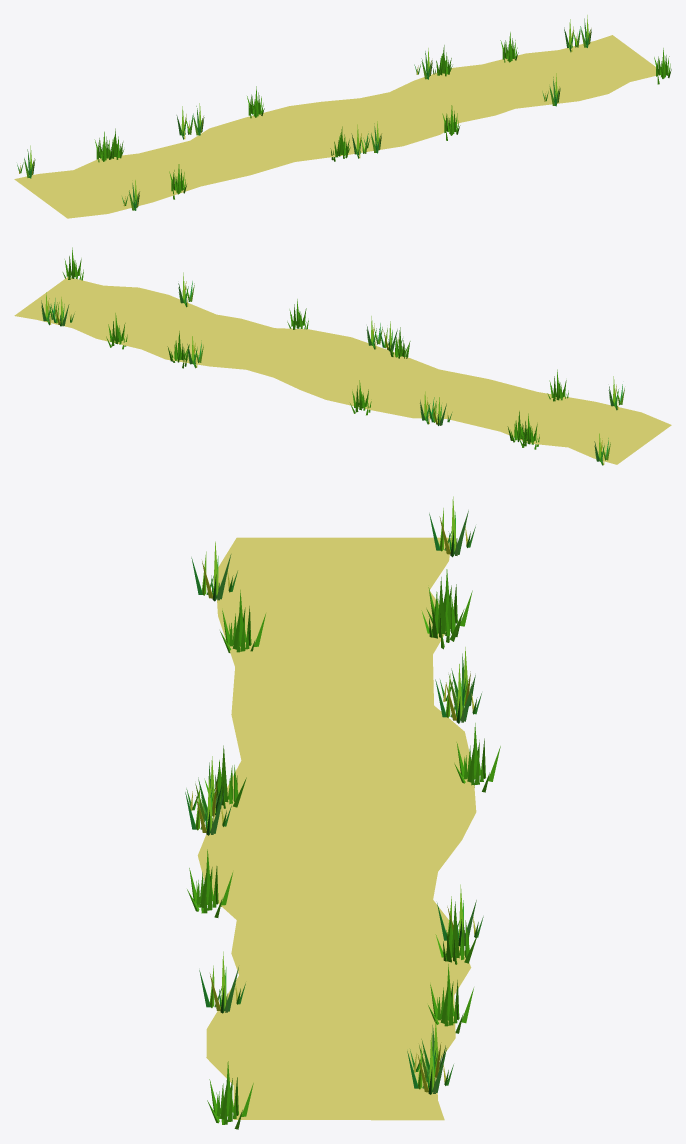
File: center3.fbx
3 views of the same model, one above another, from view 1: azimuth 30°, elevation 25°; view 2: azimuth 150°, elevation 25°; view 3: azimuth 270°, elevation 25° (orthographic). The views are drawn at different scales.
Parts seen in each view (by area): view 1: Plane; view 2: Plane; view 3: Plane, Cone.010, Cone.014, Cone.013, Cone.012, Cone.017, Cone.015, Cone.019, Cone.005, Cone.001, Cone.002, Cone.006.
Part boxes in pixels (x1,y1,x2,y2): Plane: [14, 35, 658, 218]; Plane: [14, 277, 671, 464]; Plane: [197, 537, 476, 1120]; Cone.010: [187, 849, 232, 917]; Cone.014: [207, 1061, 253, 1129]; Cone.013: [454, 723, 500, 792]; Cone.012: [428, 964, 473, 1033]; Cone.017: [421, 577, 464, 649]; Cone.015: [220, 590, 265, 652]; Cone.019: [435, 901, 478, 964]; Cone.005: [199, 951, 245, 1013]; Cone.001: [435, 664, 481, 723]; Cone.002: [191, 541, 237, 601]; Cone.006: [407, 1033, 453, 1094].
Size of the model in its own units: 12905 by 755 by 2942.
